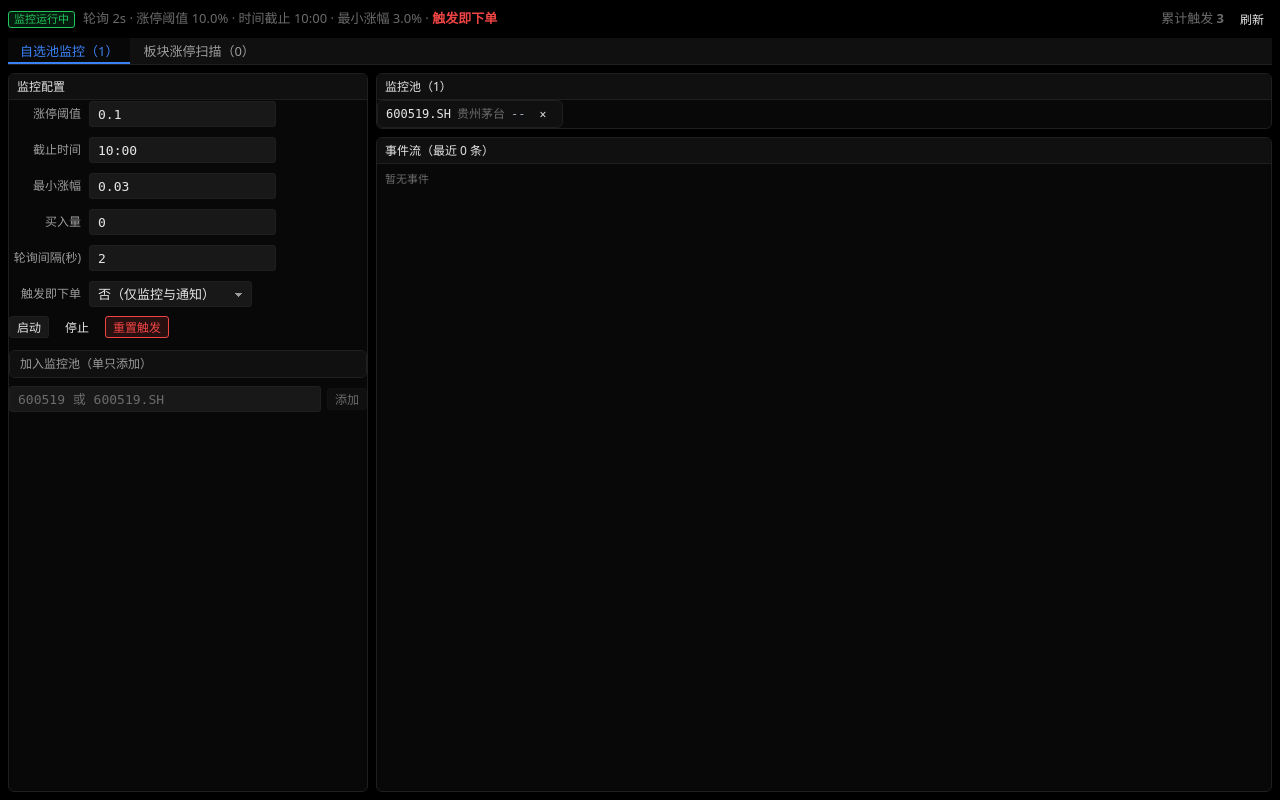
LimitUp · 重置触发必须确认 › ③ 确认框必须说清「再次触发」与「重复下单」
Click the button "重置触发": (137, 327) [105,316,169,338]
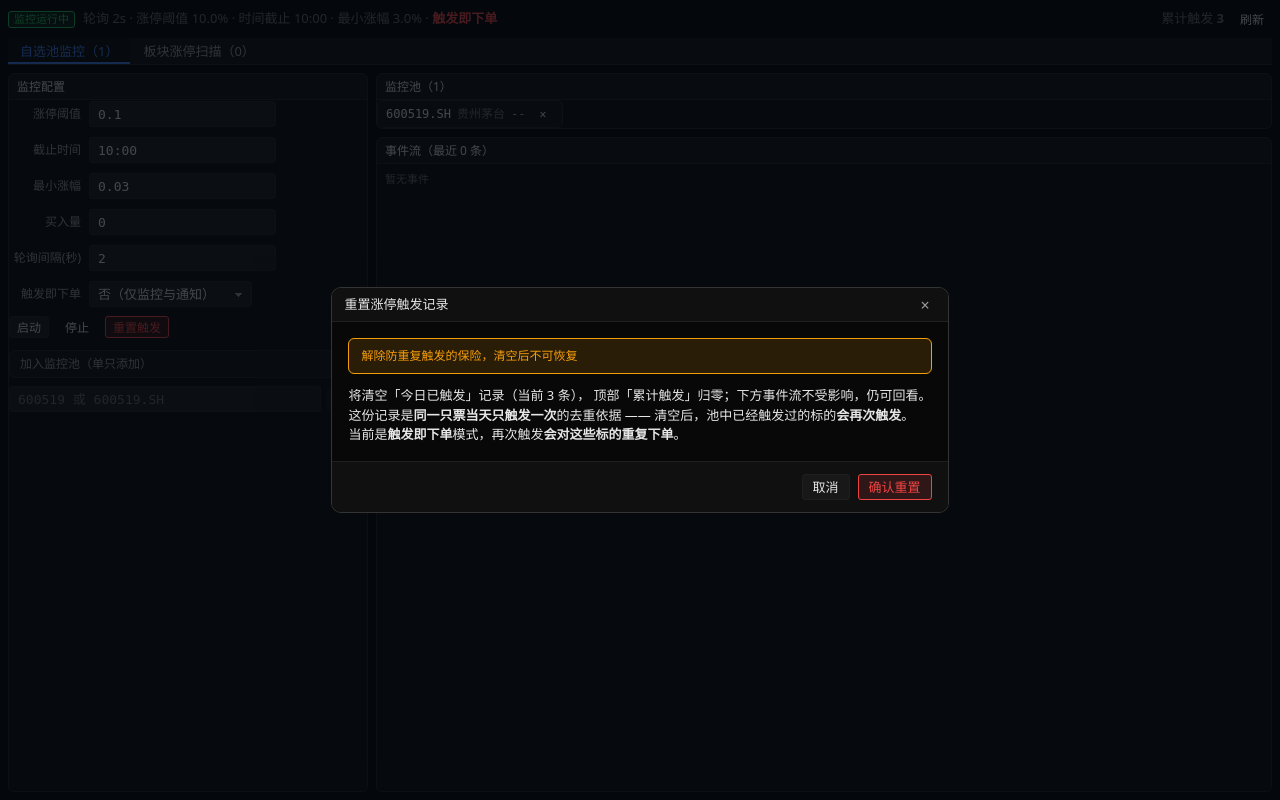
Expected: the text "重置涨停触发记录" is shown, [344,295,448,314]
Expected: the text "再次触发" is shown, [452,425,544,443]
Expected: the text "会对这些标的重复下单" is shown, [544,425,674,443]
